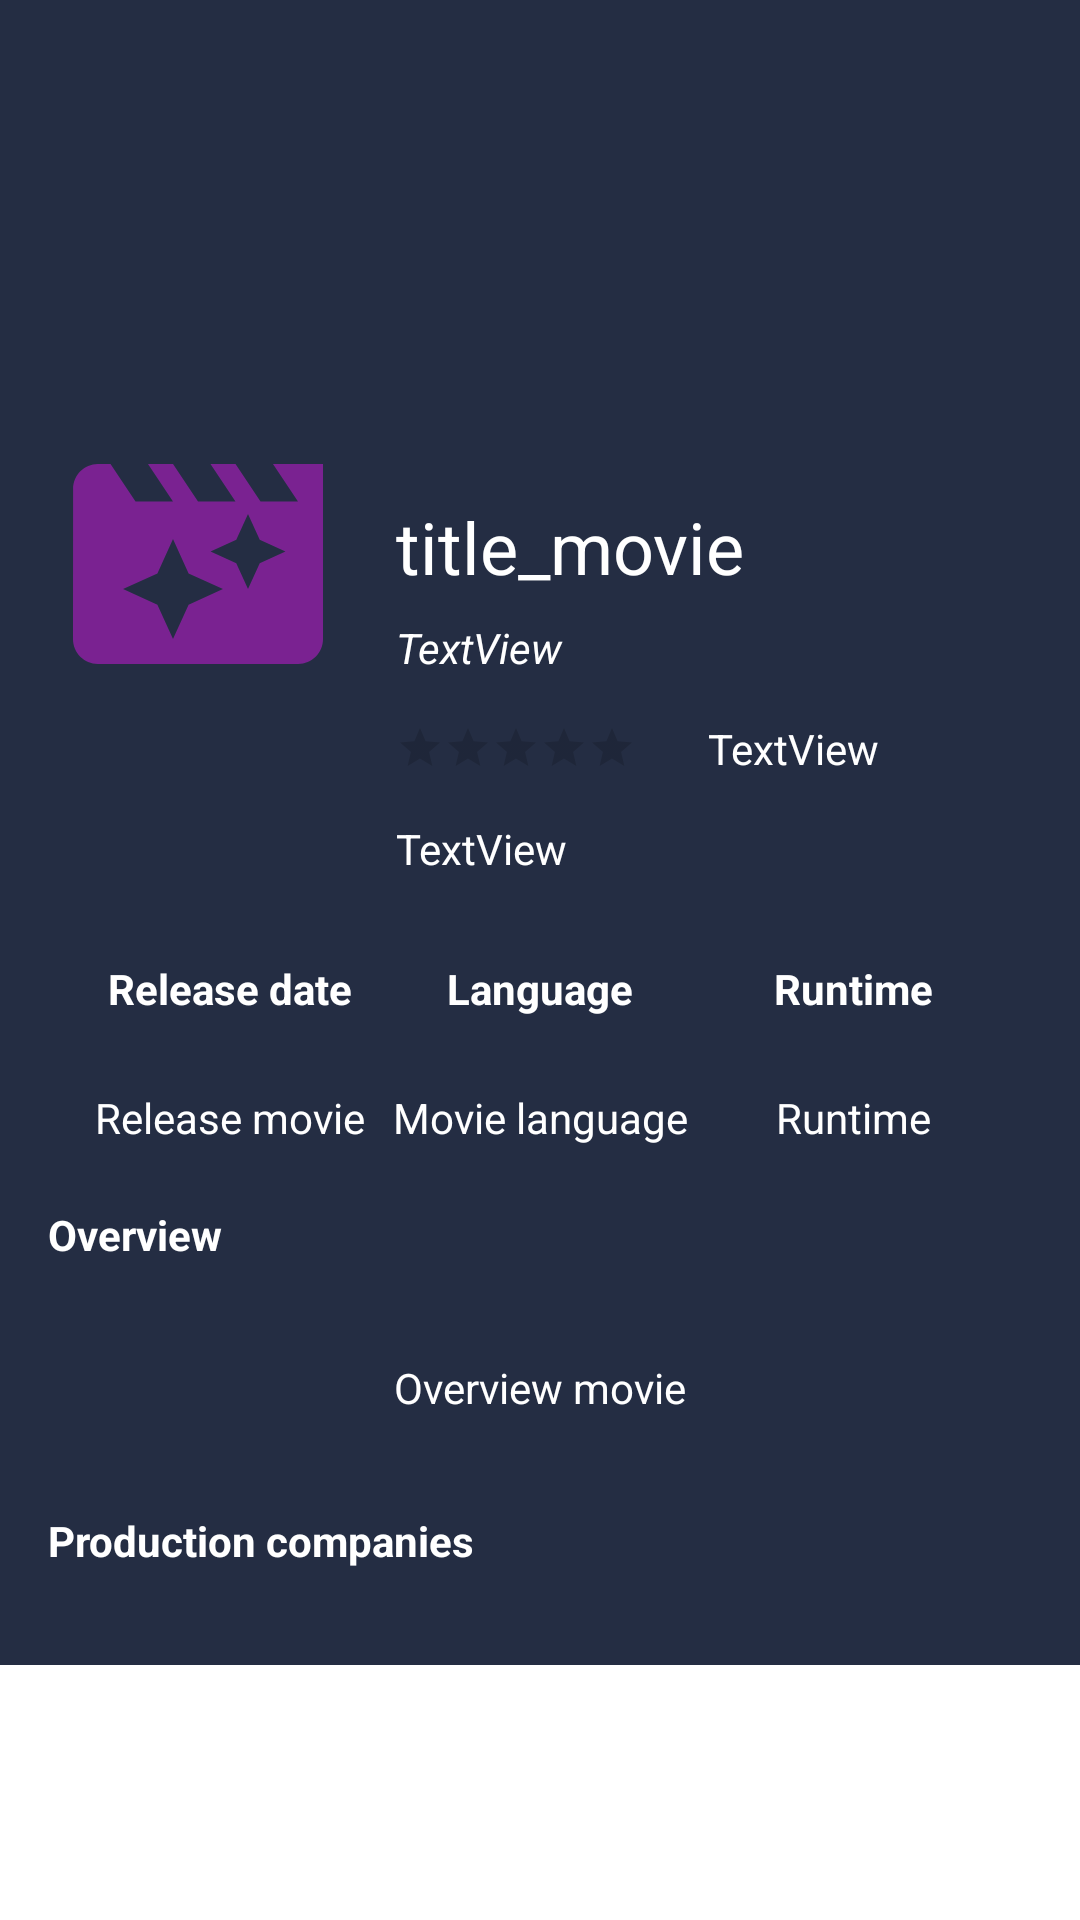

Where to tap for icons on this 1080px×1920px app screen, as (x,y):
movie filter: (198,564)
